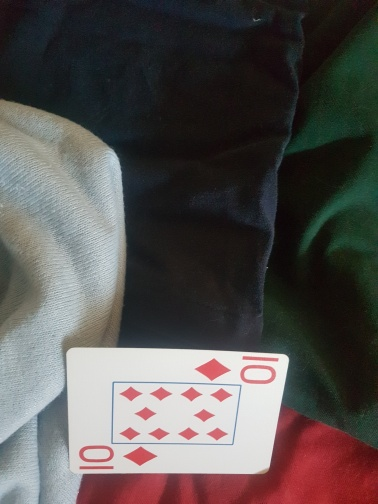ten: (65, 345, 289, 475)
